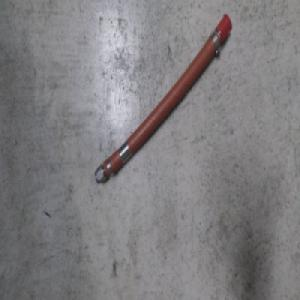Hose: (93, 10, 234, 185)
